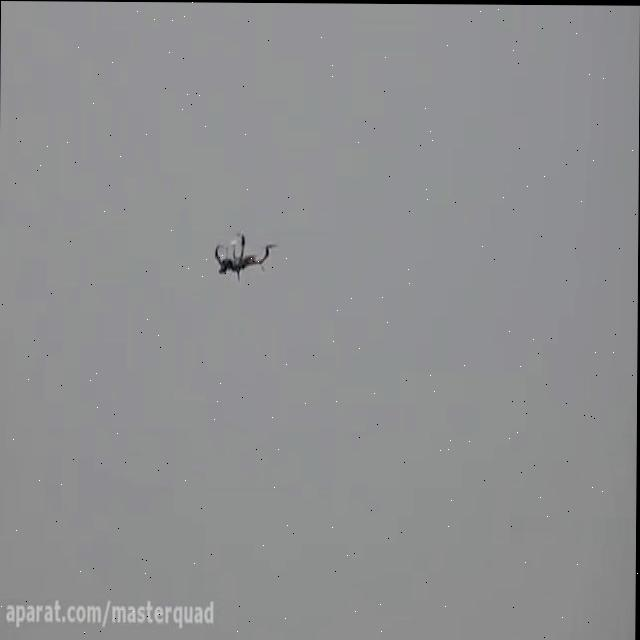drone: (206, 222, 281, 285)
